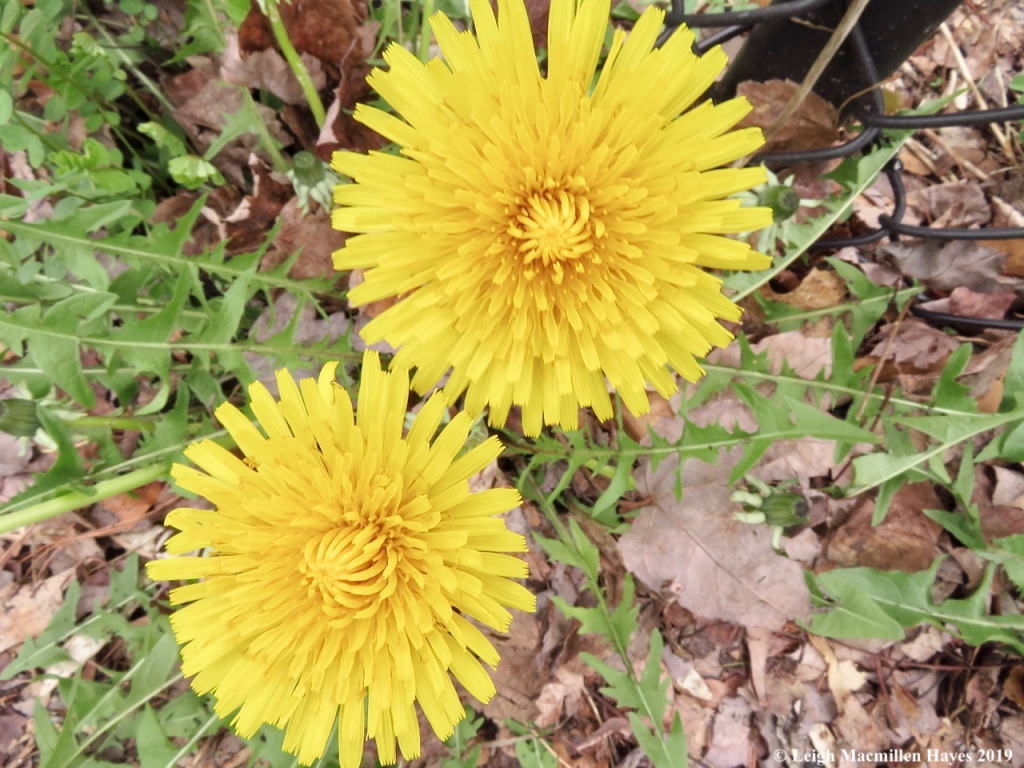dandelion: (347, 45, 751, 386), (197, 402, 527, 744)
